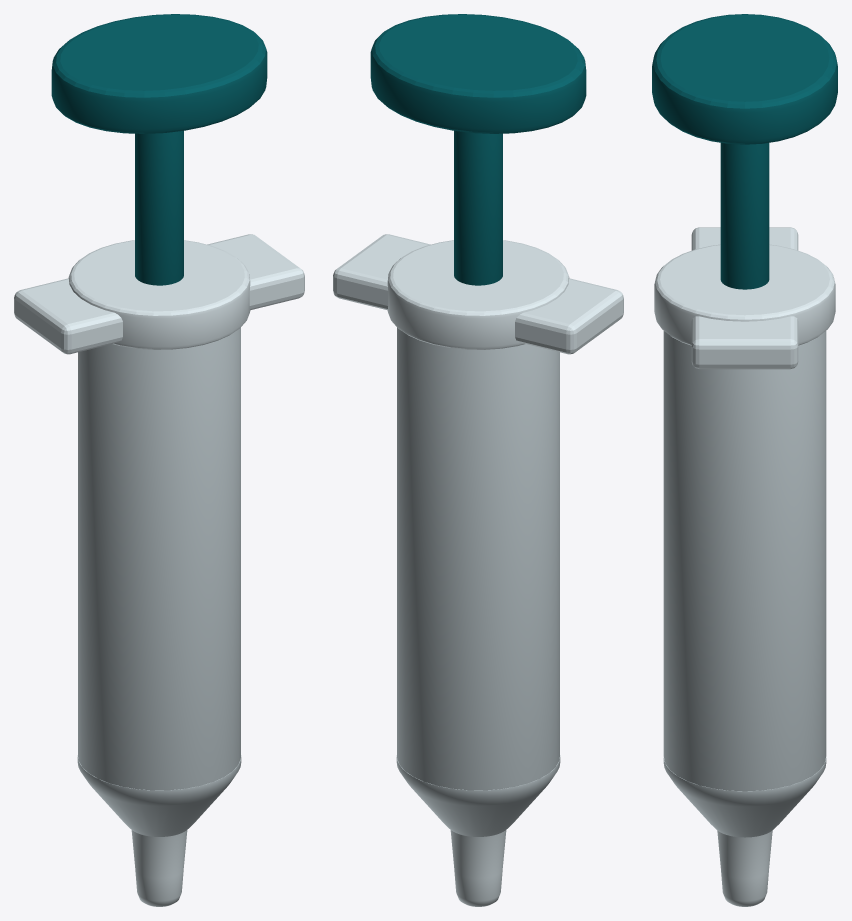
Rendered from asset.fbx.
3 views of the same model, side by side, from view 1: azimuth 30°, elevation 25°; view 2: azimuth 150°, elevation 25°; view 3: azimuth 270°, elevation 25° (orthographic).
Visible parts, largest first — view 1: radcare_irrigation_syringe_barrel, radcare_irrigation_syringe_plunger_thumb_handle, radcare_irrigation_syringe_flange_center_collar, radcare_irrigation_syringe_plunger_stem, radcare_irrigation_syringe_finger_flange_left, radcare_irrigation_syringe_barrel_lower_shoulder, radcare_irrigation_syringe_finger_flange_right, radcare_irrigation_syringe_rounded_irrigation_tip; view 2: radcare_irrigation_syringe_barrel, radcare_irrigation_syringe_plunger_thumb_handle, radcare_irrigation_syringe_flange_center_collar, radcare_irrigation_syringe_plunger_stem, radcare_irrigation_syringe_finger_flange_left, radcare_irrigation_syringe_barrel_lower_shoulder, radcare_irrigation_syringe_finger_flange_right, radcare_irrigation_syringe_rounded_irrigation_tip; view 3: radcare_irrigation_syringe_barrel, radcare_irrigation_syringe_plunger_thumb_handle, radcare_irrigation_syringe_flange_center_collar, radcare_irrigation_syringe_plunger_stem, radcare_irrigation_syringe_finger_flange_right, radcare_irrigation_syringe_barrel_lower_shoulder, radcare_irrigation_syringe_rounded_irrigation_tip, radcare_irrigation_syringe_finger_flange_left.
Part boxes in pixels (x1=…): radcare_irrigation_syringe_barrel: x1=78, y1=327, x2=240, y2=790; radcare_irrigation_syringe_plunger_thumb_handle: x1=51, y1=14, x2=267, y2=133; radcare_irrigation_syringe_flange_center_collar: x1=68, y1=240, x2=250, y2=349; radcare_irrigation_syringe_plunger_stem: x1=135, y1=131, x2=183, y2=285; radcare_irrigation_syringe_finger_flange_left: x1=14, y1=278, x2=122, y2=354; radcare_irrigation_syringe_barrel_lower_shoulder: x1=77, y1=755, x2=241, y2=836; radcare_irrigation_syringe_finger_flange_right: x1=207, y1=234, x2=304, y2=310; radcare_irrigation_syringe_rounded_irrigation_tip: x1=131, y1=830, x2=187, y2=906; radcare_irrigation_syringe_barrel: x1=397, y1=327, x2=559, y2=790; radcare_irrigation_syringe_plunger_thumb_handle: x1=370, y1=14, x2=586, y2=133; radcare_irrigation_syringe_flange_center_collar: x1=387, y1=240, x2=569, y2=349; radcare_irrigation_syringe_plunger_stem: x1=454, y1=131, x2=502, y2=285; radcare_irrigation_syringe_finger_flange_left: x1=515, y1=278, x2=623, y2=354; radcare_irrigation_syringe_barrel_lower_shoulder: x1=396, y1=755, x2=560, y2=836; radcare_irrigation_syringe_finger_flange_right: x1=333, y1=234, x2=430, y2=310; radcare_irrigation_syringe_rounded_irrigation_tip: x1=450, y1=830, x2=506, y2=906; radcare_irrigation_syringe_barrel: x1=663, y1=331, x2=826, y2=791; radcare_irrigation_syringe_plunger_thumb_handle: x1=652, y1=14, x2=837, y2=144; radcare_irrigation_syringe_flange_center_collar: x1=654, y1=244, x2=835, y2=345; radcare_irrigation_syringe_plunger_stem: x1=720, y1=143, x2=769, y2=289; radcare_irrigation_syringe_finger_flange_right: x1=691, y1=316, x2=798, y2=369; radcare_irrigation_syringe_barrel_lower_shoulder: x1=663, y1=757, x2=826, y2=837; radcare_irrigation_syringe_rounded_irrigation_tip: x1=717, y1=830, x2=772, y2=906; radcare_irrigation_syringe_finger_flange_left: x1=691, y1=227, x2=798, y2=250.
Size of the model in its own units: 0.06 by 0.2 by 0.04.
